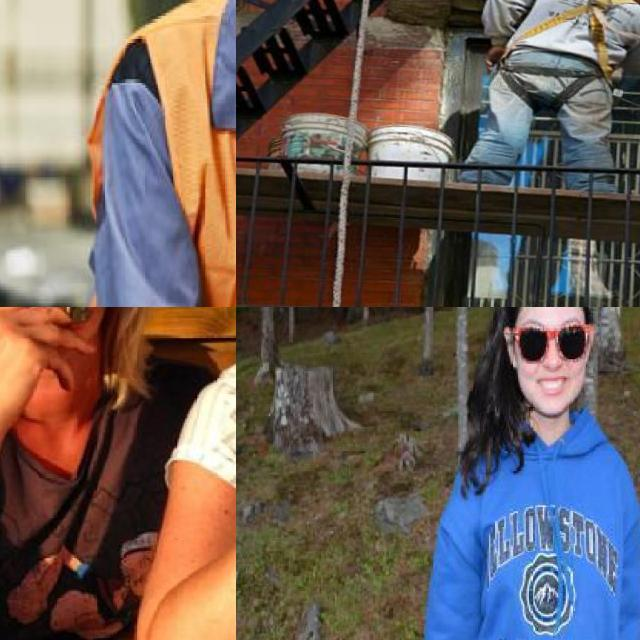Harness: (511, 0, 636, 78)
face_nomask: (508, 308, 588, 404)
glasses: (511, 328, 594, 364)
hand_noglove: (0, 307, 98, 407)
person: (415, 307, 640, 640), (73, 0, 236, 307)
vest: (110, 0, 236, 307)
